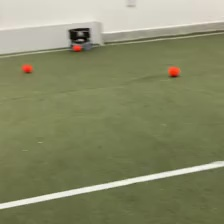ball: (168, 64, 180, 77), (21, 63, 32, 73), (73, 42, 81, 51)
goal: (1, 19, 104, 55)
robot: (68, 26, 92, 51)
